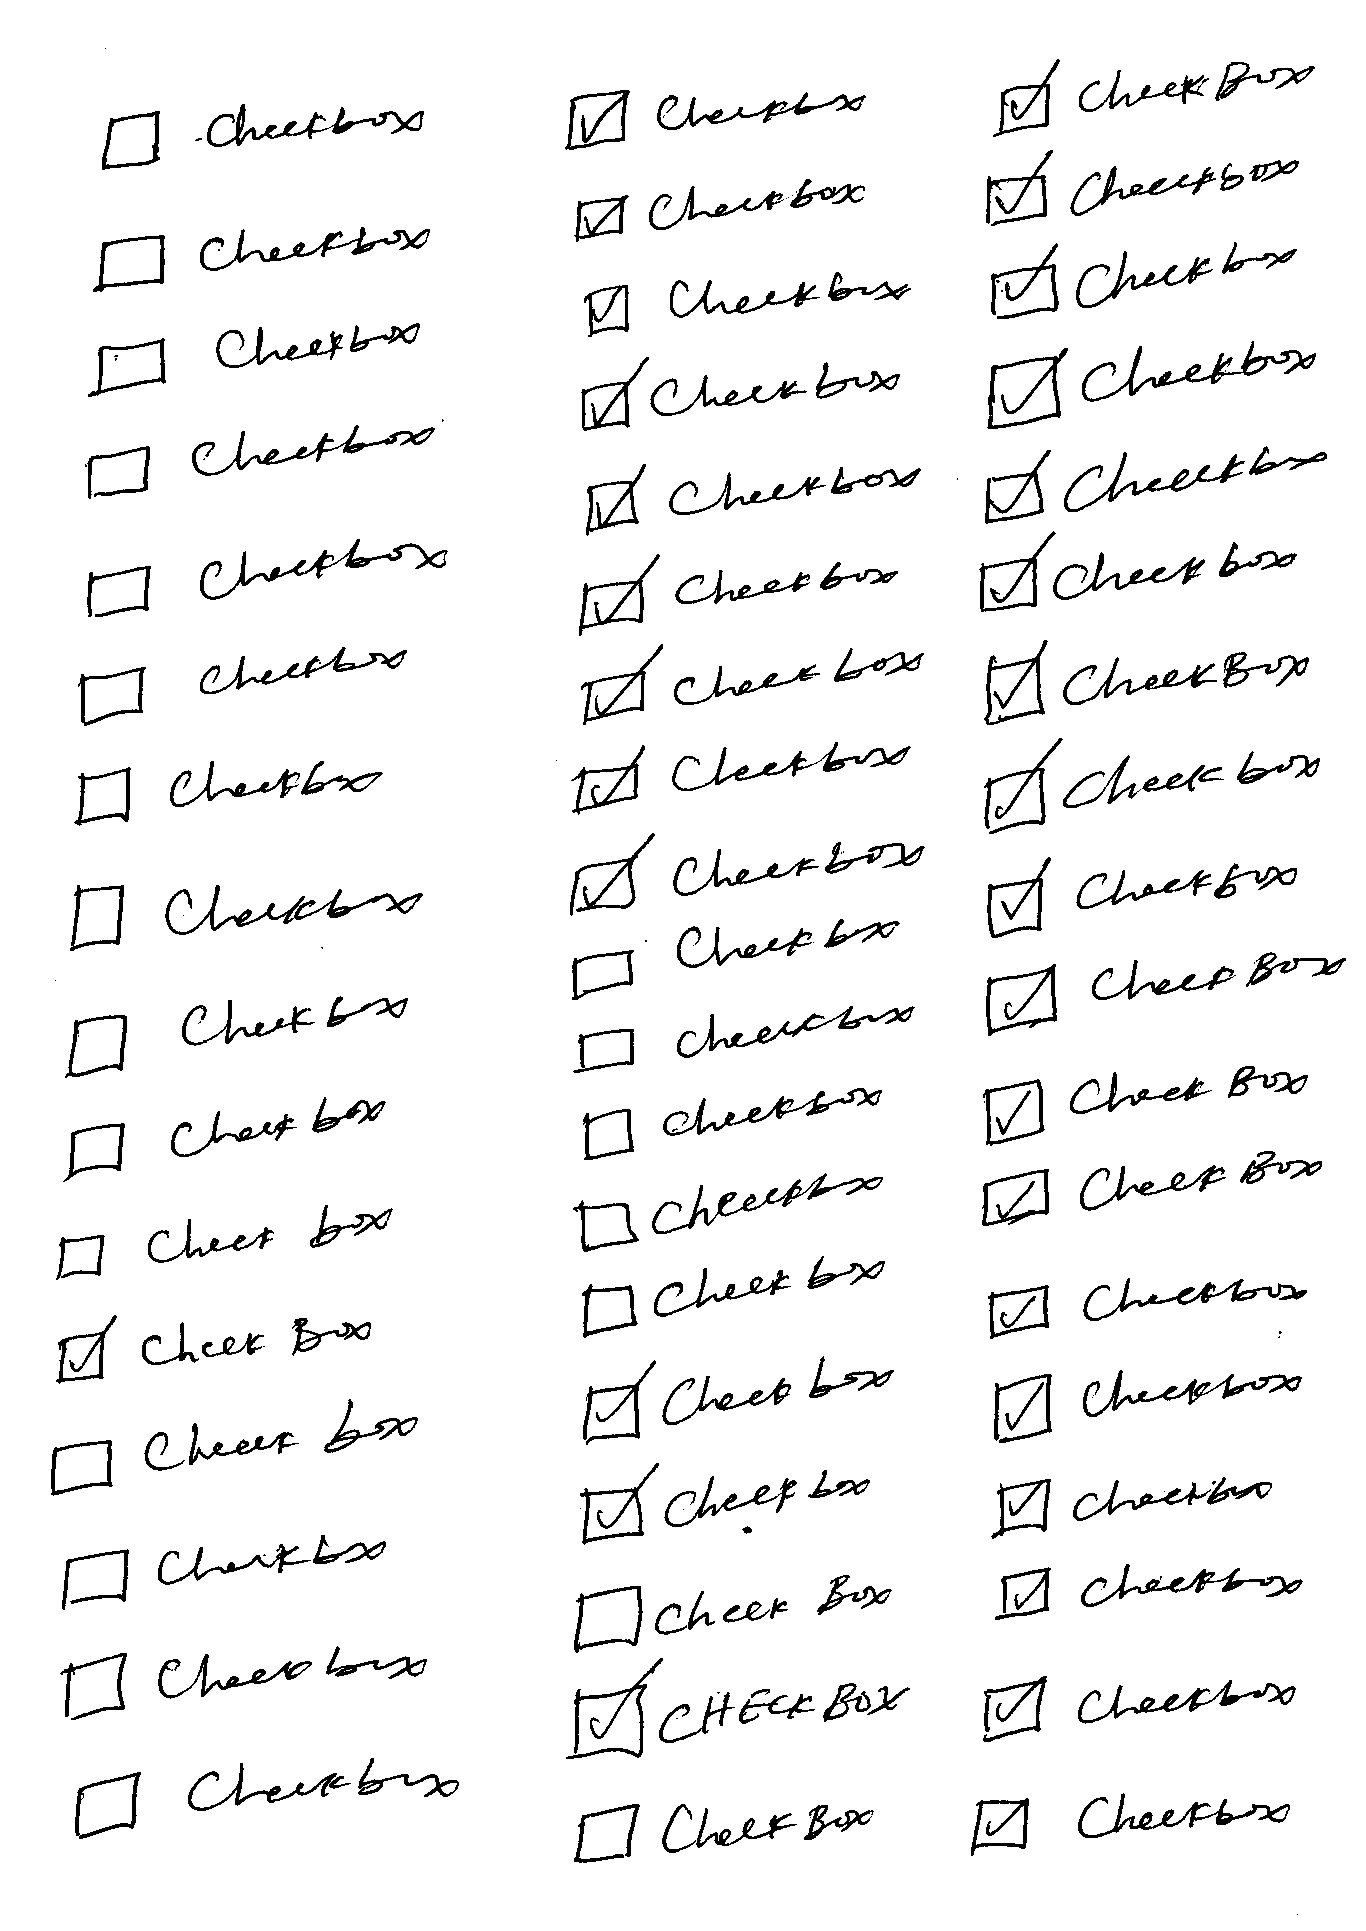Check Box: (49, 1402, 417, 1499), (64, 988, 404, 1085), (986, 946, 1344, 1036), (72, 1759, 458, 1842), (81, 537, 449, 622), (64, 1090, 386, 1181), (64, 872, 427, 952), (568, 835, 924, 917), (61, 1646, 429, 1723), (988, 345, 1316, 430), (571, 739, 912, 821), (985, 754, 1317, 837), (985, 1062, 1305, 1147), (84, 421, 439, 498), (582, 457, 924, 537), (569, 1677, 909, 1757), (982, 1149, 1322, 1227), (985, 645, 1311, 726), (59, 1532, 390, 1612), (985, 449, 1326, 526), (993, 61, 1316, 142), (75, 648, 410, 726), (582, 1359, 897, 1442), (89, 322, 421, 401), (577, 556, 899, 636), (581, 651, 921, 726), (83, 217, 427, 291), (580, 1000, 924, 1073), (571, 923, 899, 1000), (55, 1207, 395, 1280), (572, 1575, 891, 1652), (582, 1084, 887, 1164), (577, 356, 899, 432), (982, 154, 1304, 229), (988, 1371, 1307, 1446), (985, 862, 1297, 939), (574, 1175, 891, 1251), (582, 266, 912, 339), (98, 101, 429, 172), (582, 1260, 887, 1337), (582, 1467, 874, 1547), (52, 1316, 377, 1387), (977, 541, 1297, 612), (979, 1674, 1297, 1745), (989, 251, 1297, 324), (74, 756, 387, 827), (565, 87, 866, 152), (965, 1793, 1291, 1853), (988, 1280, 1304, 1341), (572, 176, 866, 241), (572, 1799, 877, 1862), (996, 1566, 1307, 1622), (996, 1476, 1271, 1538)
